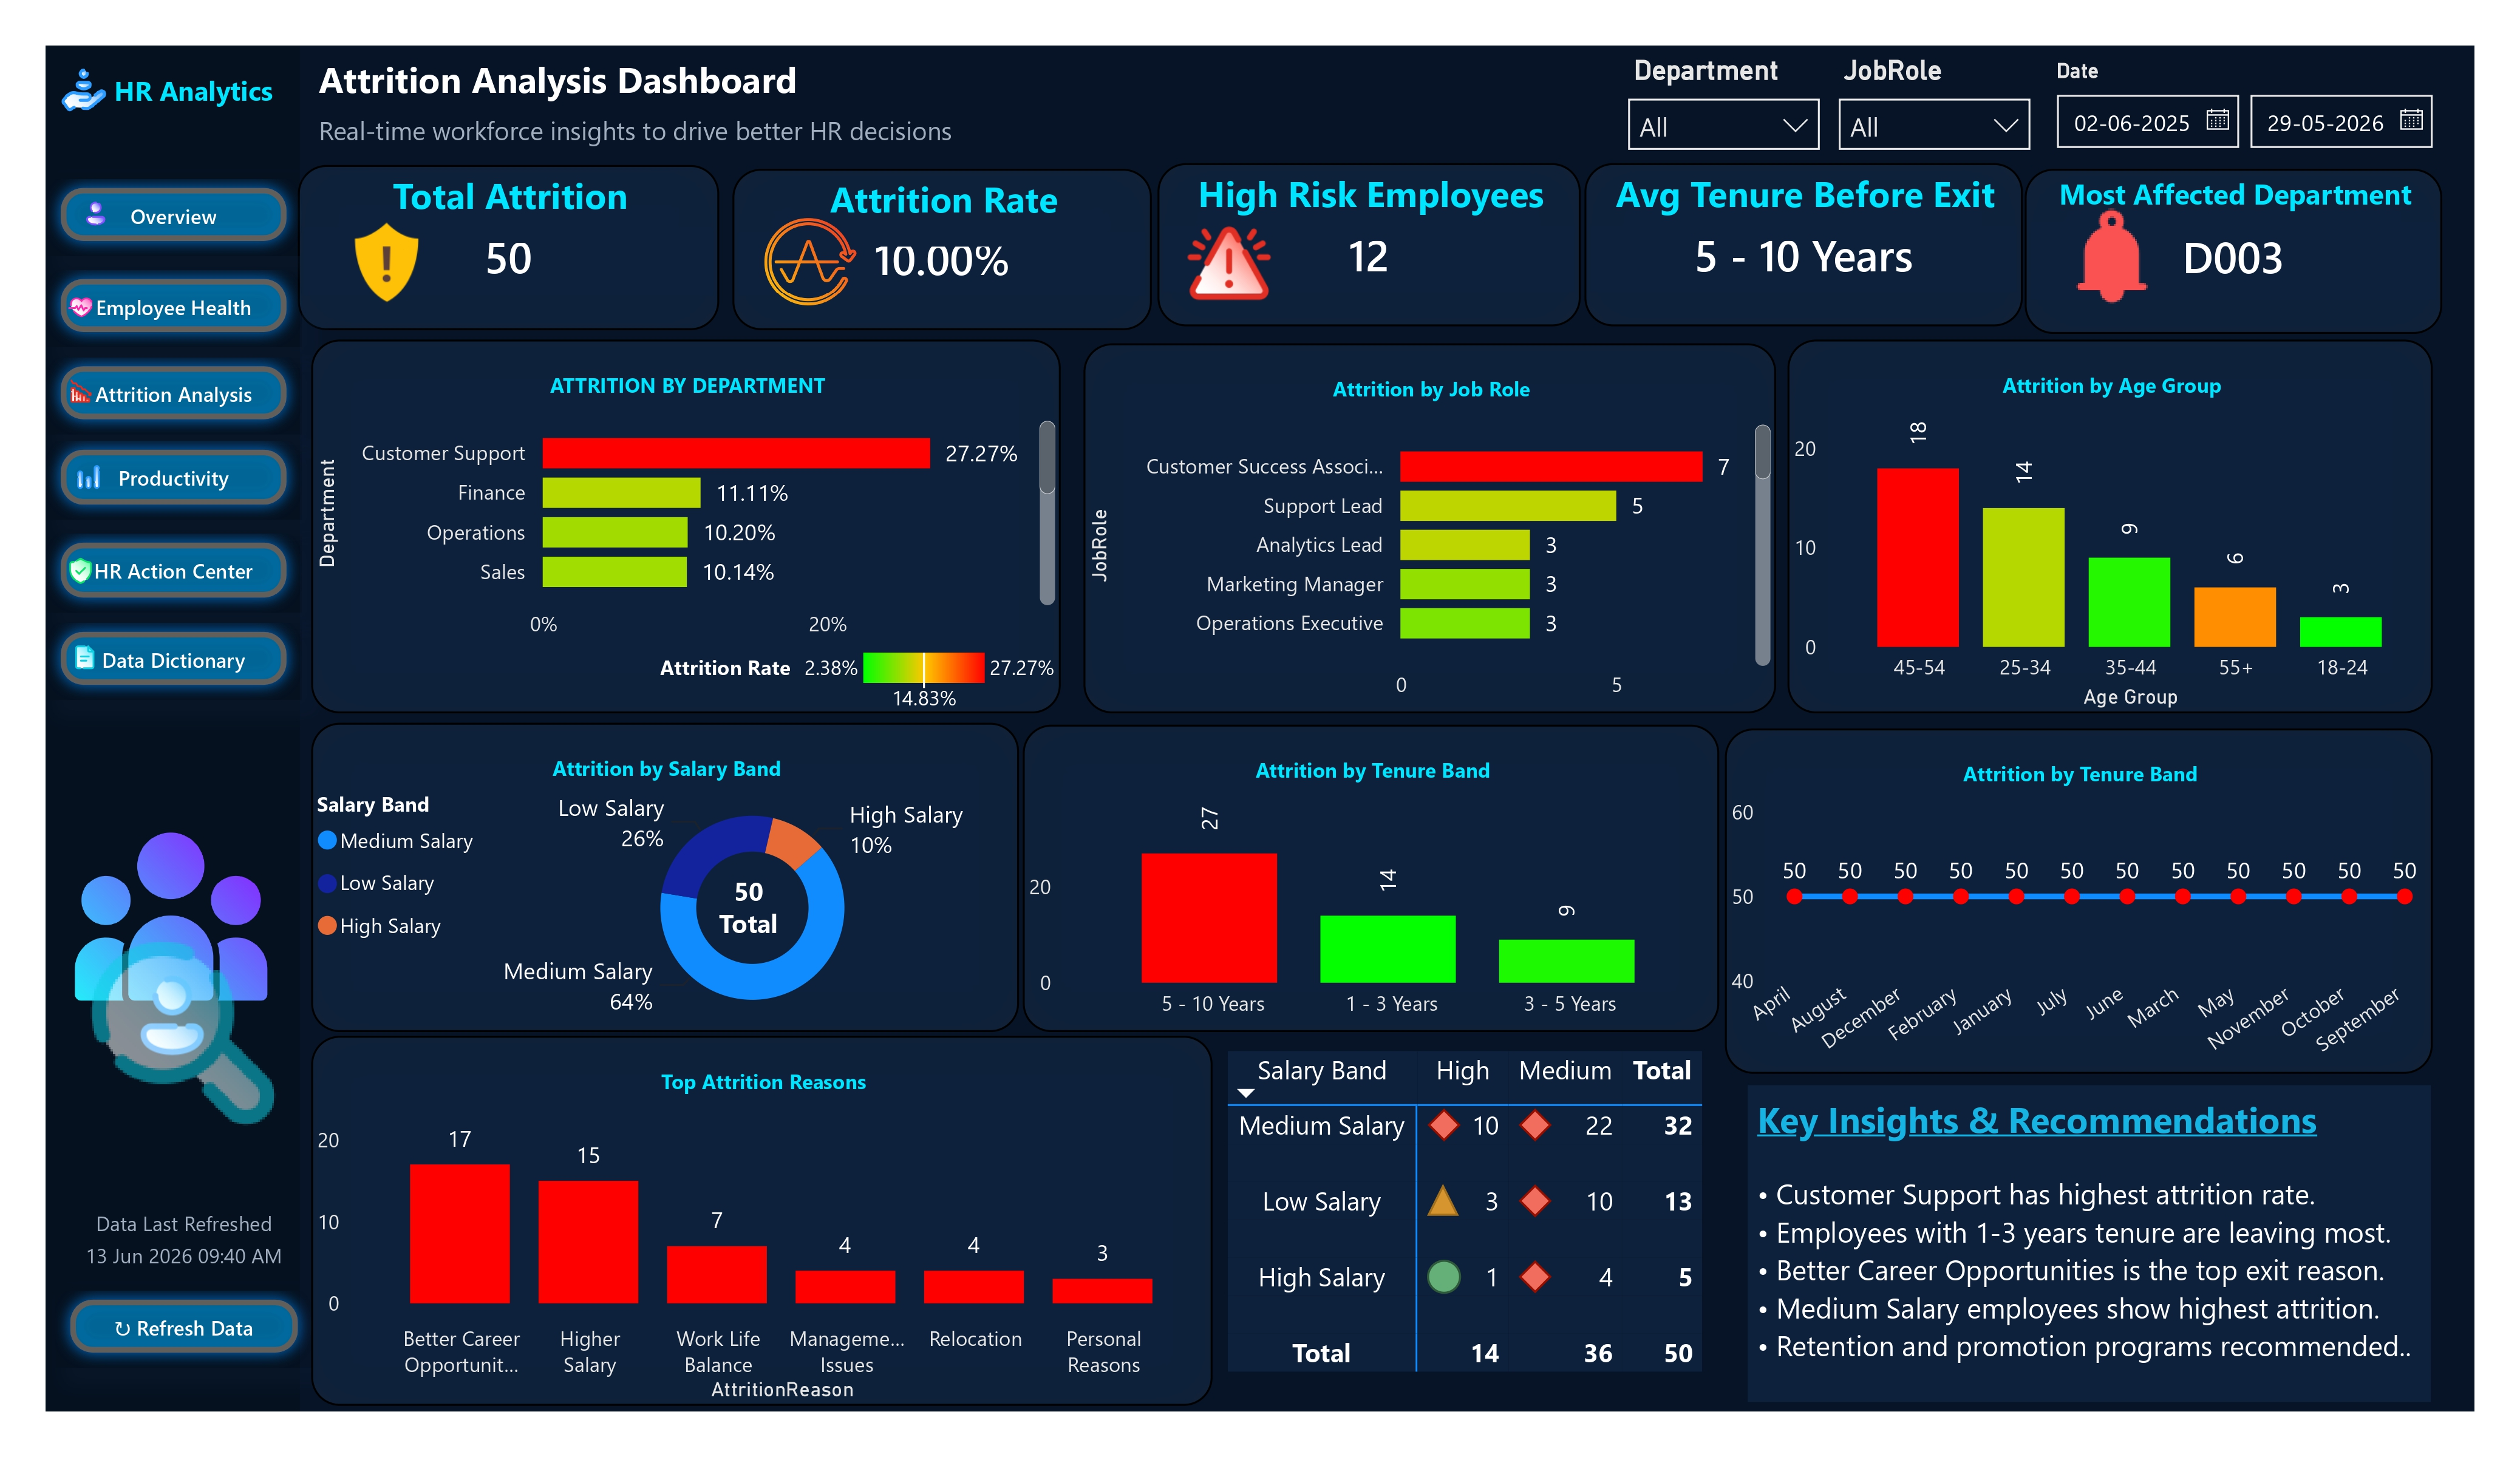

The page's visual inventory and layout, read from the dashboard file:
{"tool":"powerbi","page":{"name":"Attrition Analysis","canvas":[1280,720],"ordinal":2},"visuals":[{"type":"shape","box":[0,0,134,720],"z":0},{"type":"cardVisual","title":"Total Attrition","fields":{"Data":["Employee KPI Measures.Attrition Count"]},"box":[133.3,63.1,222.2,86.1],"z":0,"group":"g2"},{"type":"group","id":"g1","title":"Group 4","box":[140,356.7,373.3,163.3],"z":35,"group":"g6"},{"type":"textbox","box":[138.8,0,605,38.8],"z":1000},{"type":"cardVisual","title":"Attrition Rate","fields":{"Data":["Employee KPI Measures.Attrition Rate"]},"box":[362.3,64.3,221,85.9],"z":1000,"group":"g2"},{"type":"textbox","box":[139.4,31.3,354.5,32.3],"z":2000},{"type":"cardVisual","title":"High Risk Employees","fields":{"Data":["HR Action Measures.High Risk Employees"]},"box":[586.6,61.7,222.4,86.4],"z":2000,"group":"g2"},{"type":"group","id":"g2","title":"Group 1","box":[133.3,61.7,1130,90],"z":3000},{"type":"cardVisual","title":"Avg Tenure Before Exit","fields":{"Data":["Key Insights.Top Attrition Tenure"]},"box":[811.1,61.7,230.7,86.4],"z":3000,"group":"g2"},{"type":"donutChart","title":"Attrition by Salary Band","fields":{"Category":["employees.Salary Band"],"Y":["Employee KPI Measures.Attrition Count"]},"box":[140,356.7,373.3,163.3],"z":3000,"group":"g1"},{"type":"slicer","fields":{"Values":["departments.Department"]},"box":[823.9,0,120.9,60.4],"z":4000},{"type":"cardVisual","title":"Most Affected Department","fields":{"Data":["Key Insights.Top Attrition Department"]},"box":[1043.3,65.1,220,86.6],"z":4000,"group":"g2"},{"type":"clusteredBarChart","title":"ATTRITION BY DEPARTMENT","fields":{"Category":["departments.Department"],"Y":["Employee KPI Measures.Attrition Rate"]},"box":[140,155.3,395,196.7],"z":4000,"group":"g3"},{"type":"columnChart","title":"Attrition by Age Group","fields":{"Category":["employees.Age Group"],"Y":["Employee KPI Measures.Attrition Count"]},"box":[918.3,155.3,340,196.7],"z":4000,"group":"g5"},{"type":"barChart","title":"Attrition by Job Role","fields":{"Category":["employees.JobRole"],"Y":["Employee KPI Measures.Attrition Count"]},"box":[546.7,157,365,195],"z":4000,"group":"g4"},{"type":"columnChart","title":"Top Attrition Reasons","fields":{"Category":["attrition_reasons.AttritionReason"],"Y":["CountNonNull(attrition_reasons.EmployeeID)"]},"box":[140,521.7,475,195],"z":4000,"group":"g7"},{"type":"columnChart","title":"Attrition by Tenure Band","fields":{"Y":["Employee KPI Measures.Attrition Count"],"Category":["employees.Tenure Band"]},"box":[515,358.3,366.7,161.7],"z":5000},{"type":"slicer","fields":{"Values":["employees.JobRole"]},"box":[935.3,0,120.9,60.4],"z":6000},{"type":"slicer","fields":{"Values":["DateTable.Date"]},"box":[1046.7,2.2,227.8,60],"z":7000},{"type":"textbox","box":[310.2,431.5,120.9,49.3],"z":7000,"group":"g1"},{"type":"textbox","box":[29.4,8.9,97.2,30],"z":8000},{"type":"actionButton","box":[0,66.8,135.2,44.5],"z":9000},{"type":"actionButton","box":[0,114.5,135.2,44.5],"z":10000},{"type":"actionButton","box":[0,160.7,135.2,44.5],"z":11000},{"type":"actionButton","box":[0,205.2,135.2,44.5],"z":12000},{"type":"actionButton","box":[0,254.5,135.2,44.5],"z":13000},{"type":"actionButton","box":[0,300.6,135.2,44.5],"z":14000},{"type":"image","box":[12.8,396.8,106.7,124.4],"z":15000},{"type":"image","box":[42.2,480,50,62.2],"z":16000},{"type":"image","box":[11.1,457.8,123.3,125.6],"z":17000},{"type":"image","box":[19,81.4,14.8,14.8],"z":18000},{"type":"image","box":[11.4,130.9,15.5,14.5],"z":19000},{"type":"image","box":[11.4,174.8,14.8,15.2],"z":20000},{"type":"image","box":[14.3,220.5,15.2,14.8],"z":21000},{"type":"image","box":[11,269,15.2,14.8],"z":22000},{"type":"image","box":[12.9,314.3,14.8,15.2],"z":23000},{"type":"image","box":[7.2,9.4,25.6,28.9],"z":24000},{"type":"actionButton","box":[5.3,652.7,135.3,44.7],"z":25000},{"type":"textbox","box":[11.4,606.4,123.6,50.7],"z":26000},{"type":"group","id":"g3","title":"Group 3","box":[140,155.3,395,196.7],"z":27000},{"type":"group","id":"g4","title":"Group 3","box":[546.7,157,365,195],"z":28000},{"type":"textbox","box":[896.7,548.3,360,166.7],"z":29000},{"type":"group","id":"g5","title":"Group 3","box":[918.3,155.3,340,196.7],"z":30000},{"type":"group","id":"g6","title":"Group 2","box":[140,356.7,373.3,163.3],"z":31000},{"type":"group","id":"g7","title":"Group 3","box":[140,521.7,475,195],"z":32000},{"type":"lineChart","title":"Attrition by Tenure Band","fields":{"Y":["Employee KPI Measures.Attrition Count"],"Category":["DateTable.Month"]},"box":[885,360,373.3,181.7],"z":33000},{"type":"pivotTable","fields":{"Rows":["employees.Salary Band"],"Columns":["performance.Performance Band"],"Values":["Employee KPI Measures.Attrition Count"]},"box":[618.3,525,265,195],"z":34000},{"type":"image","box":[583.8,90,80,50],"z":34001},{"type":"image","box":[140,88.8,80,50],"z":34002},{"type":"image","box":[362.5,88.8,80,50],"z":34003},{"type":"image","box":[1048.8,86.2,80,50],"z":34004}]}

Visuals, with their boxes on the page's 1280x720 design canvas (x1, y1, x2, y2). These are canvas units, not pixel positions in the 2520x1457 screenshot, which may show the page scaled, cropped or inside an application window:
shape: bbox(0, 0, 134, 720)
"Total Attrition" cardVisual: bbox(133, 63, 356, 149)
"Group 4" group: bbox(140, 357, 513, 520)
textbox: bbox(139, 0, 744, 39)
"Attrition Rate" cardVisual: bbox(362, 64, 583, 150)
textbox: bbox(139, 31, 494, 64)
"High Risk Employees" cardVisual: bbox(587, 62, 809, 148)
"Group 1" group: bbox(133, 62, 1263, 152)
"Avg Tenure Before Exit" cardVisual: bbox(811, 62, 1042, 148)
"Attrition by Salary Band" donutChart: bbox(140, 357, 513, 520)
slicer - departments.Department: bbox(824, 0, 945, 60)
"Most Affected Department" cardVisual: bbox(1043, 65, 1263, 152)
"ATTRITION BY DEPARTMENT" clusteredBarChart: bbox(140, 155, 535, 352)
"Attrition by Age Group" columnChart: bbox(918, 155, 1258, 352)
"Attrition by Job Role" barChart: bbox(547, 157, 912, 352)
"Top Attrition Reasons" columnChart: bbox(140, 522, 615, 717)
"Attrition by Tenure Band" columnChart: bbox(515, 358, 882, 520)
slicer - employees.JobRole: bbox(935, 0, 1056, 60)
slicer - DateTable.Date: bbox(1047, 2, 1274, 62)
textbox: bbox(310, 432, 431, 481)
textbox: bbox(29, 9, 127, 39)
actionButton: bbox(0, 67, 135, 111)
actionButton: bbox(0, 114, 135, 159)
actionButton: bbox(0, 161, 135, 205)
actionButton: bbox(0, 205, 135, 250)
actionButton: bbox(0, 254, 135, 299)
actionButton: bbox(0, 301, 135, 345)
image: bbox(13, 397, 120, 521)
image: bbox(42, 480, 92, 542)
image: bbox(11, 458, 134, 583)
image: bbox(19, 81, 34, 96)
image: bbox(11, 131, 27, 145)
image: bbox(11, 175, 26, 190)
image: bbox(14, 220, 30, 235)
image: bbox(11, 269, 26, 284)
image: bbox(13, 314, 28, 330)
image: bbox(7, 9, 33, 38)
actionButton: bbox(5, 653, 141, 697)
textbox: bbox(11, 606, 135, 657)
"Group 3" group: bbox(140, 155, 535, 352)
"Group 3" group: bbox(547, 157, 912, 352)
textbox: bbox(897, 548, 1257, 715)
"Group 3" group: bbox(918, 155, 1258, 352)
"Group 2" group: bbox(140, 357, 513, 520)
"Group 3" group: bbox(140, 522, 615, 717)
"Attrition by Tenure Band" lineChart: bbox(885, 360, 1258, 542)
pivotTable - employees.Salary Band x performance.Performance Band: bbox(618, 525, 883, 720)
image: bbox(584, 90, 664, 140)
image: bbox(140, 89, 220, 139)
image: bbox(362, 89, 442, 139)
image: bbox(1049, 86, 1129, 136)
